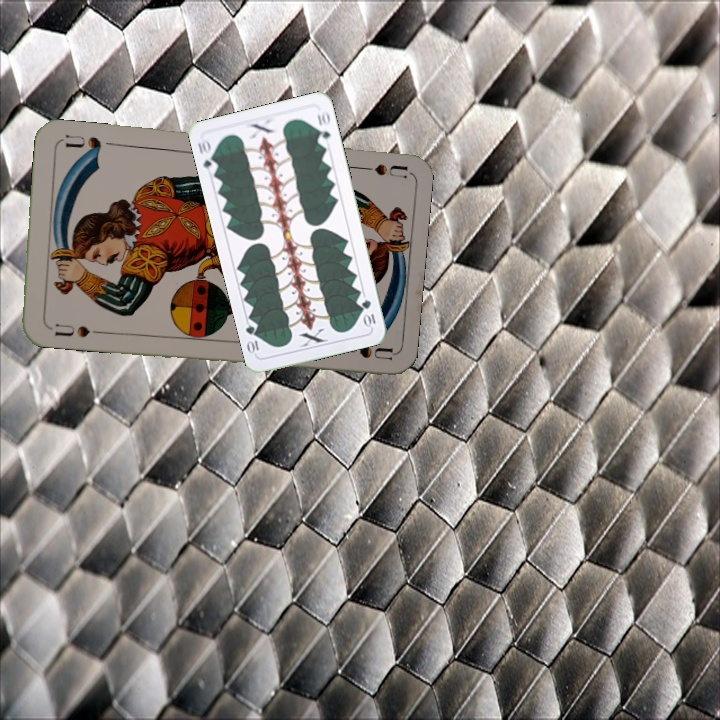G10: (193, 136, 220, 176), (358, 295, 378, 330)
SU: (348, 160, 408, 181), (43, 319, 102, 340)
